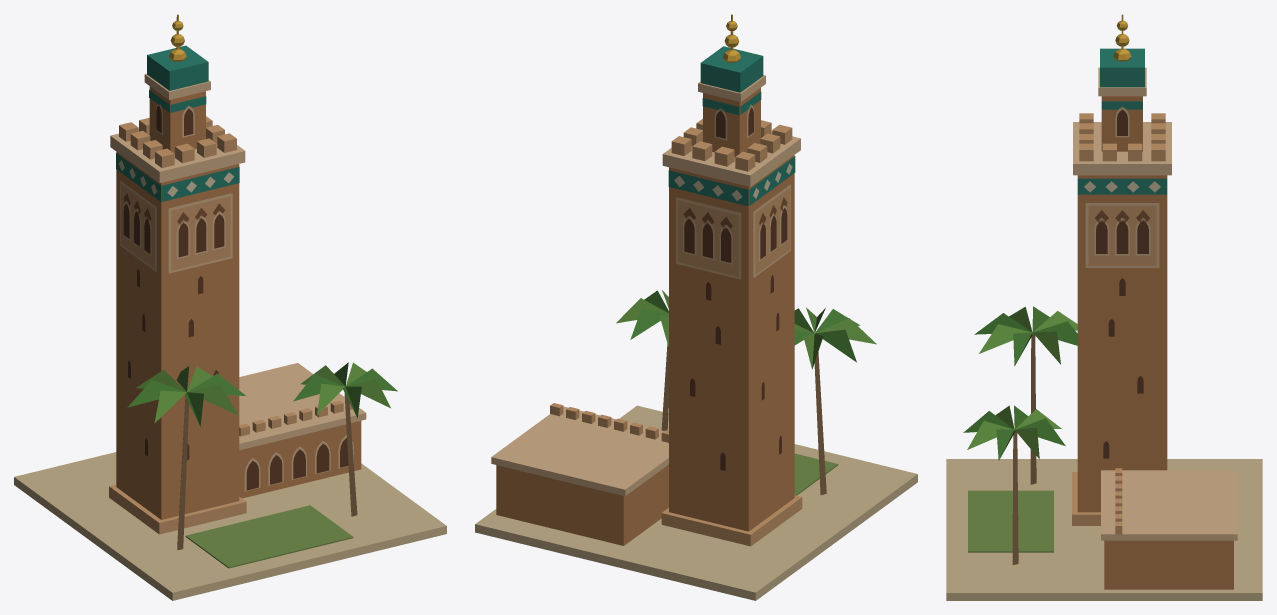
The model's file is minaret.glb.
3 views of the same model, side by side, from view 1: azimuth 30°, elevation 25°; view 2: azimuth 150°, elevation 25°; view 3: azimuth 270°, elevation 25° (orthographic). The views are drawn at different scales.
Visible parts, largest first — view 1: minaret; view 2: minaret; view 3: minaret.
Part boxes in pixels (<box>): minaret: <box>14,14,446,600</box>; minaret: <box>475,14,917,600</box>; minaret: <box>946,14,1262,600</box>.
Size of the model in its own units: 1.76 by 3.06 by 1.76.
